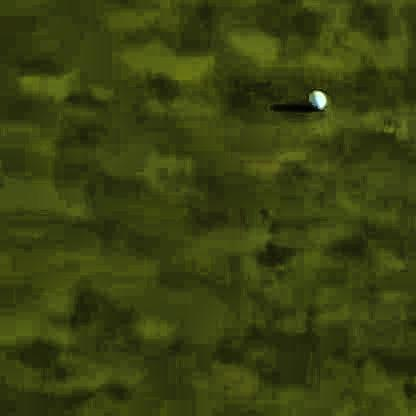golfball: (304, 87, 323, 109)
